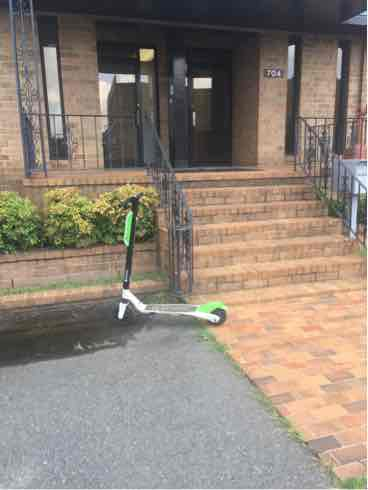scooter: (98, 180, 234, 331)
